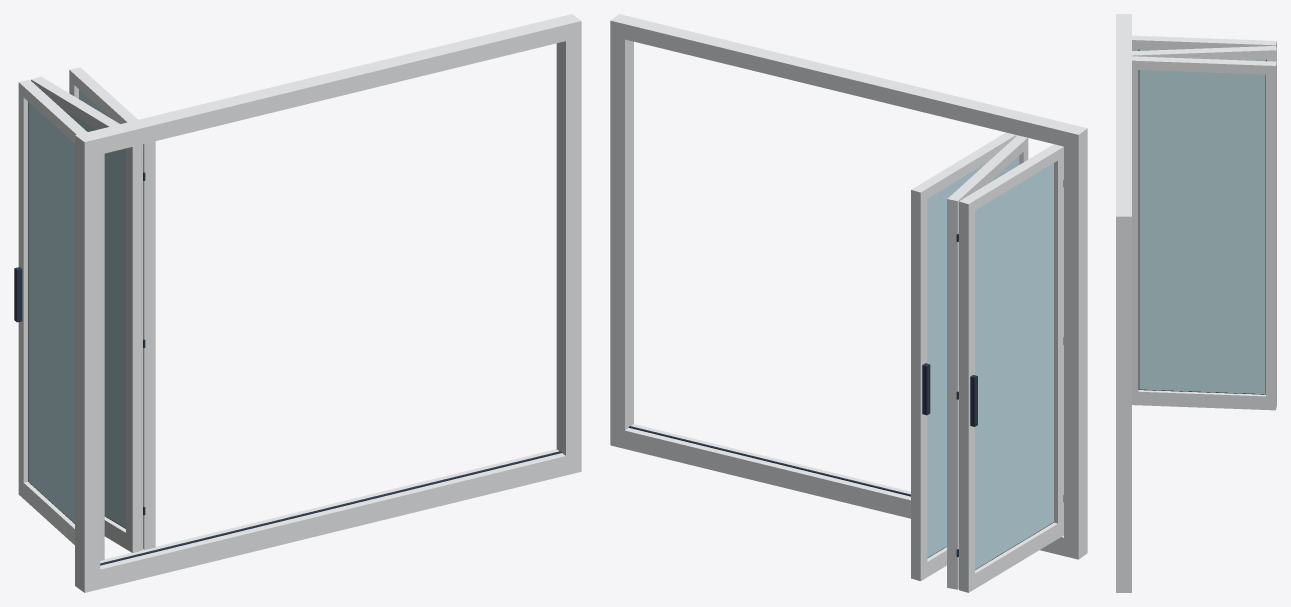
Rendered from patio_doors_bifold_three_pane_open.glb.
3 renders of one model, left to right at view 1: azimuth 30°, elevation 25°; view 2: azimuth 150°, elevation 25°; view 3: azimuth 270°, elevation 25°, orthographic. The views are drawn at different scales.
Visible parts, largest first — view 1: leaf_1_clear_glass_pane, fixed_sill, fixed_head, fixed_left_jamb, fixed_right_jamb, leaf_2_clear_glass_pane, leaf_2_right_stile, leaf_3_left_stile, leaf_1_right_stile, leaf_1_left_stile, bottom_guide_track, leaf_2_top_rail (+3 smaller); view 2: leaf_1_clear_glass_pane, fixed_head, fixed_left_jamb, fixed_right_jamb, fixed_sill, leaf_3_clear_glass_pane, leaf_3_right_stile, leaf_1_right_stile, leaf_2_left_stile, leaf_1_left_stile, leaf_1_top_rail, leaf_1_bottom_rail (+3 smaller); view 3: leaf_3_clear_glass_pane, fixed_right_jamb, leaf_3_right_stile, fixed_head, leaf_3_left_stile, leaf_3_bottom_rail, leaf_3_top_rail, leaf_2_top_rail, leaf_1_top_rail, leaf_3_seal_left, leaf_3_seal_right.
Boxes of the visible parts, x1,y1,x2,y2 form: leaf_1_clear_glass_pane: (28, 102, 74, 523); fixed_sill: (100, 449, 565, 588); fixed_head: (91, 18, 565, 154); fixed_left_jamb: (75, 131, 100, 592); fixed_right_jamb: (556, 14, 581, 475); leaf_2_clear_glass_pane: (63, 110, 125, 528); leaf_2_right_stile: (126, 144, 142, 552); leaf_3_left_stile: (143, 141, 155, 549); leaf_1_right_stile: (18, 79, 34, 498); leaf_1_left_stile: (100, 153, 104, 560); bottom_guide_track: (100, 451, 561, 565); leaf_2_top_rail: (38, 80, 119, 129); leaf_1_clear_glass_pane: (975, 163, 1053, 569); fixed_head: (625, 17, 1072, 146); fixed_left_jamb: (1064, 124, 1087, 559); fixed_right_jamb: (610, 14, 633, 448); fixed_sill: (625, 424, 1063, 555); leaf_3_clear_glass_pane: (927, 163, 985, 557); leaf_3_right_stile: (911, 186, 927, 581); leaf_1_right_stile: (959, 197, 974, 592); leaf_2_left_stile: (947, 195, 962, 589); leaf_1_left_stile: (1048, 144, 1063, 538); leaf_1_top_rail: (966, 147, 1057, 210); leaf_1_bottom_rail: (975, 522, 1057, 588); leaf_3_clear_glass_pane: (1139, 70, 1265, 394); fixed_right_jamb: (1116, 210, 1131, 592); leaf_3_right_stile: (1266, 61, 1276, 410); fixed_head: (1116, 20, 1131, 210); leaf_3_left_stile: (1132, 56, 1138, 405); leaf_3_bottom_rail: (1138, 390, 1265, 409); leaf_3_top_rail: (1138, 56, 1266, 74); leaf_2_top_rail: (1138, 46, 1266, 60); leaf_1_top_rail: (1138, 36, 1266, 49); leaf_3_seal_left: (1138, 70, 1139, 389); leaf_3_seal_right: (1265, 75, 1265, 394).
Size of the model in its own units: 2.4 by 2.08 by 0.8056.
